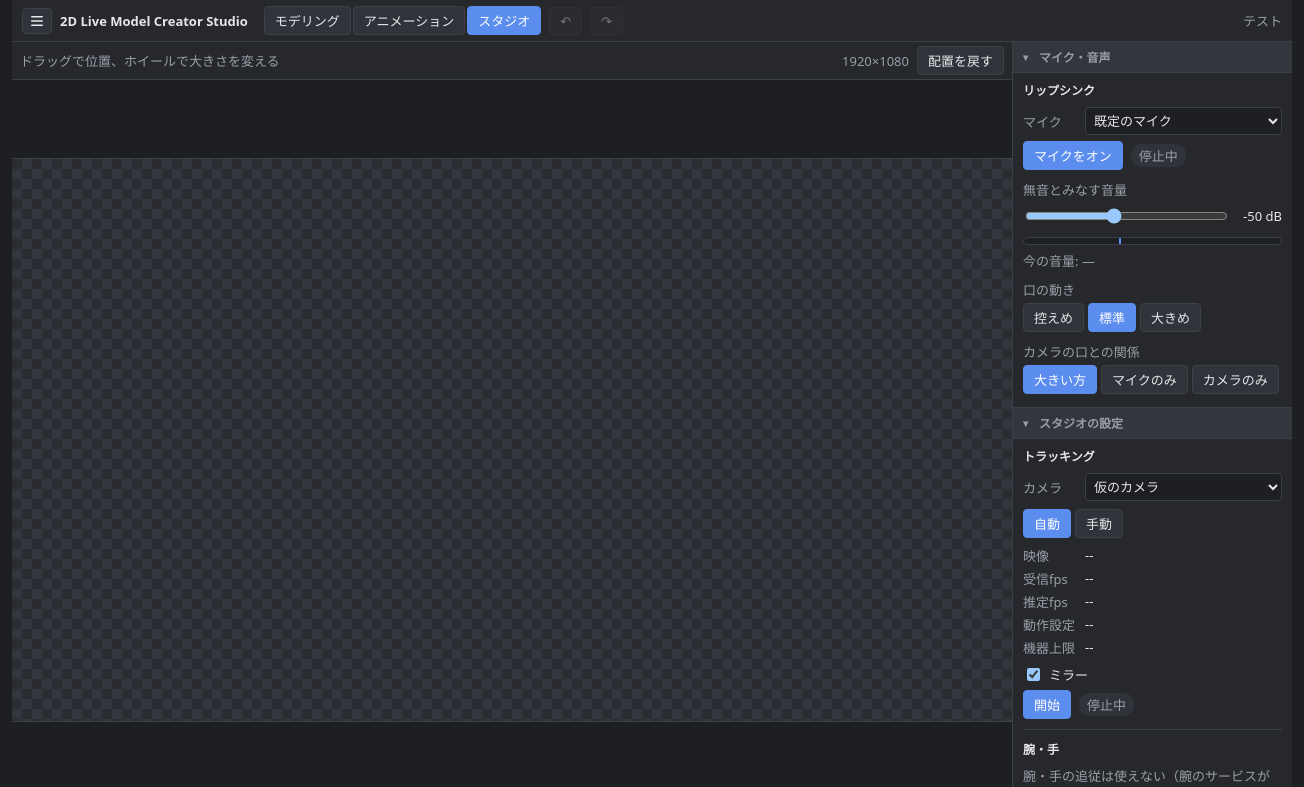
Test: スタジオの設定の「リップシンク」 › マイクを開始できなければ知らせて、止まった状態に戻る
This screenshot has width=1304, height=787.
Click the button "マイクをオン" at (1073, 156), box [1023,141,1123,170]
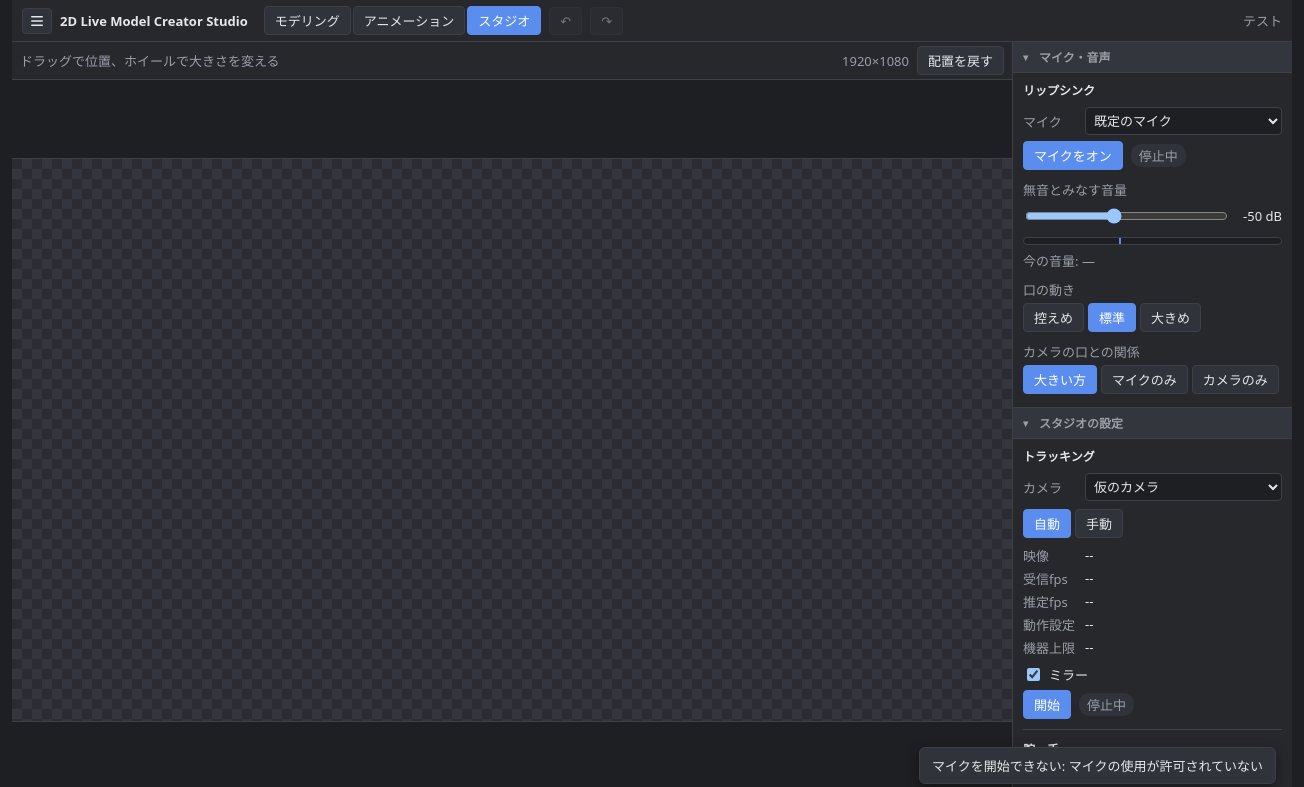
expect the text named "マイクの状態" reads "停止中": met, box [1139,147,1178,165]
expect the text "マイクを開始できない: マイクの使用が許可されていない" is shown: met, box [919,747,1276,784]
